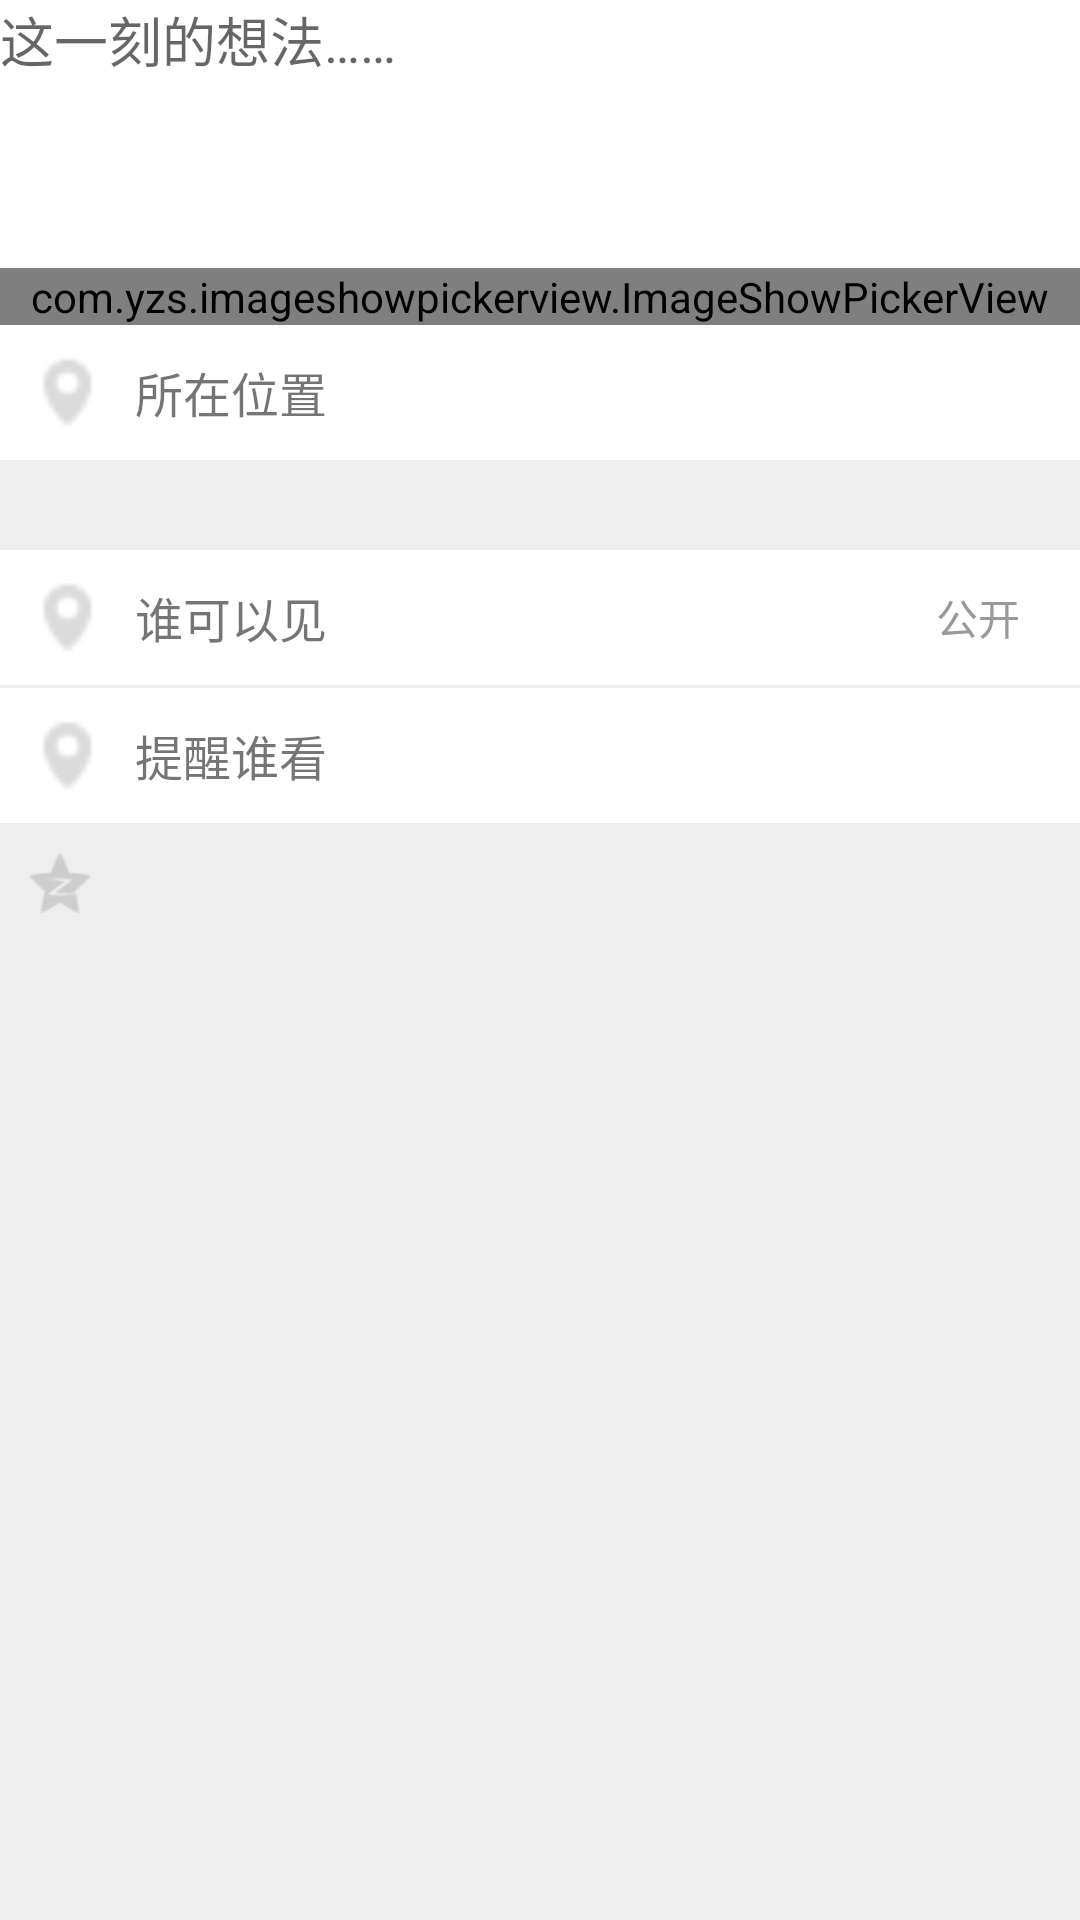

Screen size 1080x1920. Icon name, then its box in pixels as (x1, y1, x2, y2):
location: (45, 360, 90, 423), (45, 586, 90, 647), (45, 724, 90, 786)
